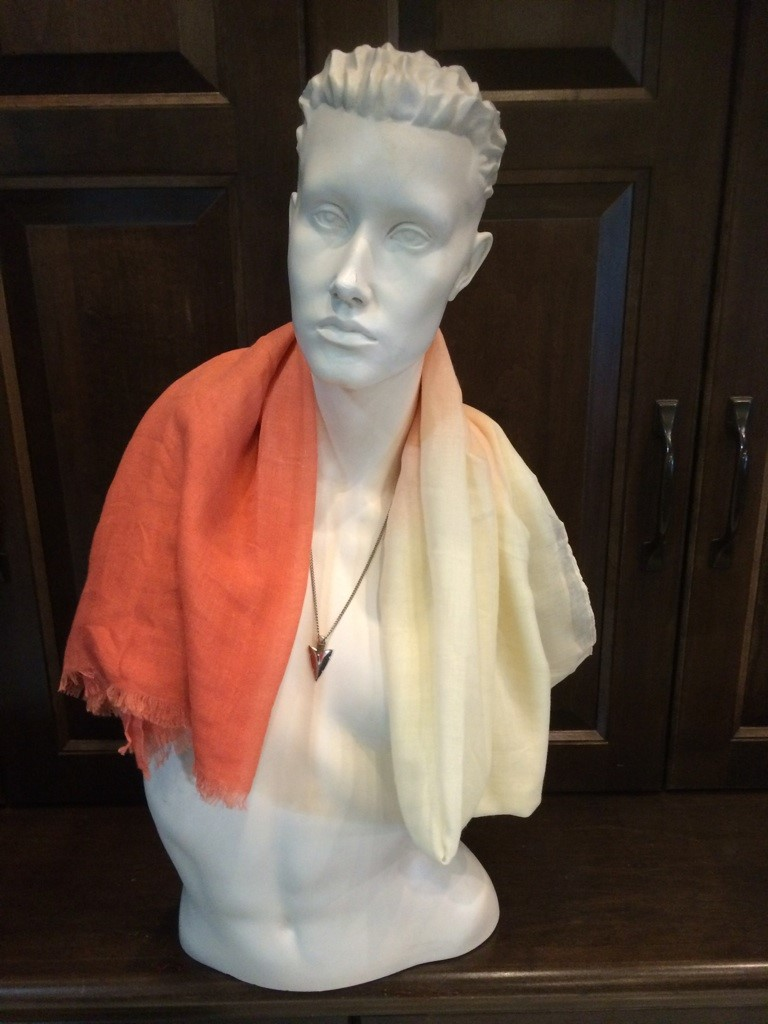person-like: (57, 36, 600, 997)
